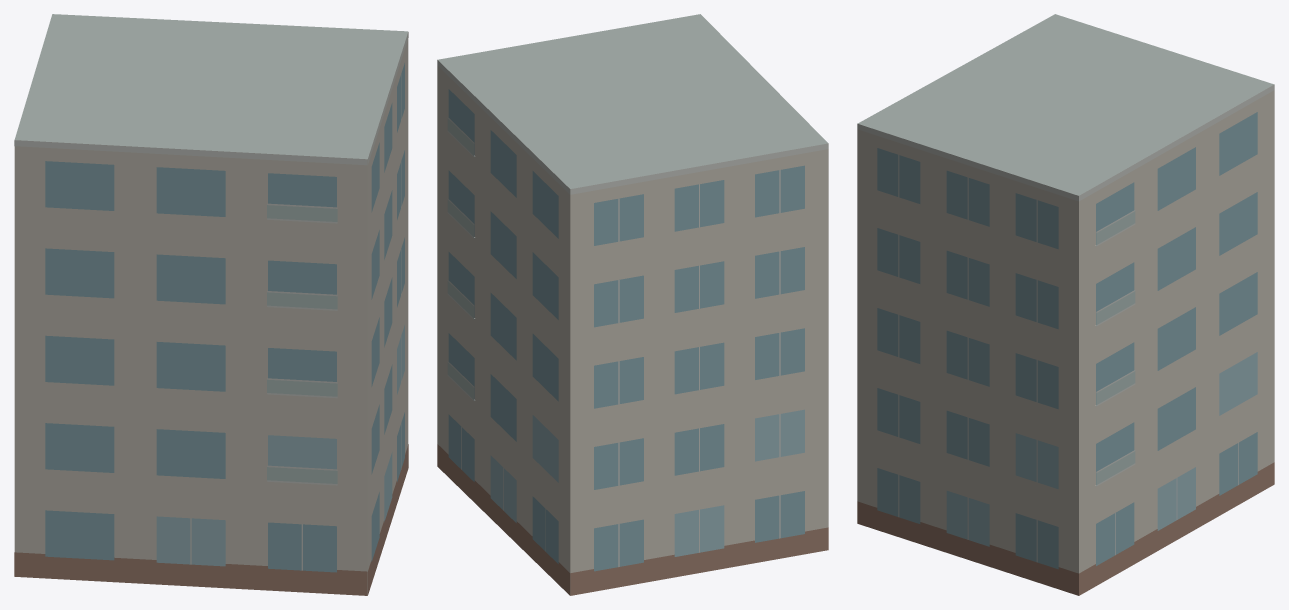
Rendered from survey-upis-32848086.glb.
3 views of the same model, side by side, from view 1: azimuth 30°, elevation 25°; view 2: azimuth 150°, elevation 25°; view 3: azimuth 270°, elevation 25° (orthographic). The views are drawn at different scales.
Visible parts, largest first — view 1: survey-upis-32848086.tmp; view 2: survey-upis-32848086.tmp; view 3: survey-upis-32848086.tmp.
Part boxes in pixels (x1,y1,x2,y2): survey-upis-32848086.tmp: (14, 14, 408, 595); survey-upis-32848086.tmp: (437, 14, 828, 595); survey-upis-32848086.tmp: (857, 14, 1274, 595).
Size of the model in its own units: 17.08 by 17.5 by 16.55.
